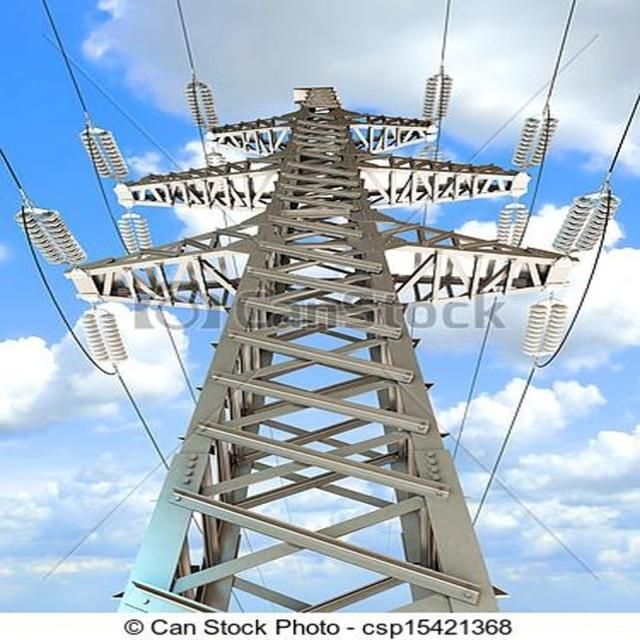non-critical vegetation: (44, 70, 576, 604)
